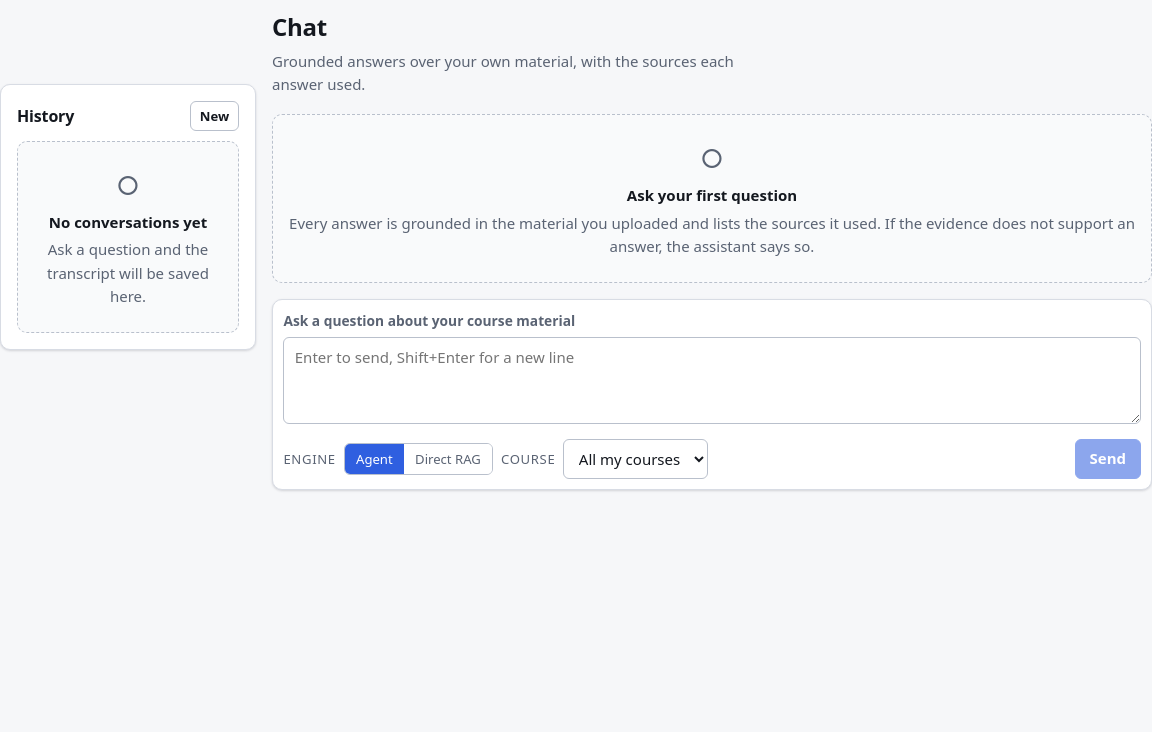
Test: chat streaming › offers a cancel control while streaming
Type "Long answer please" into the text box labelled "Ask a question about your course material".
click(712, 380); type("Long answer please")  # box [283,337,1141,424]
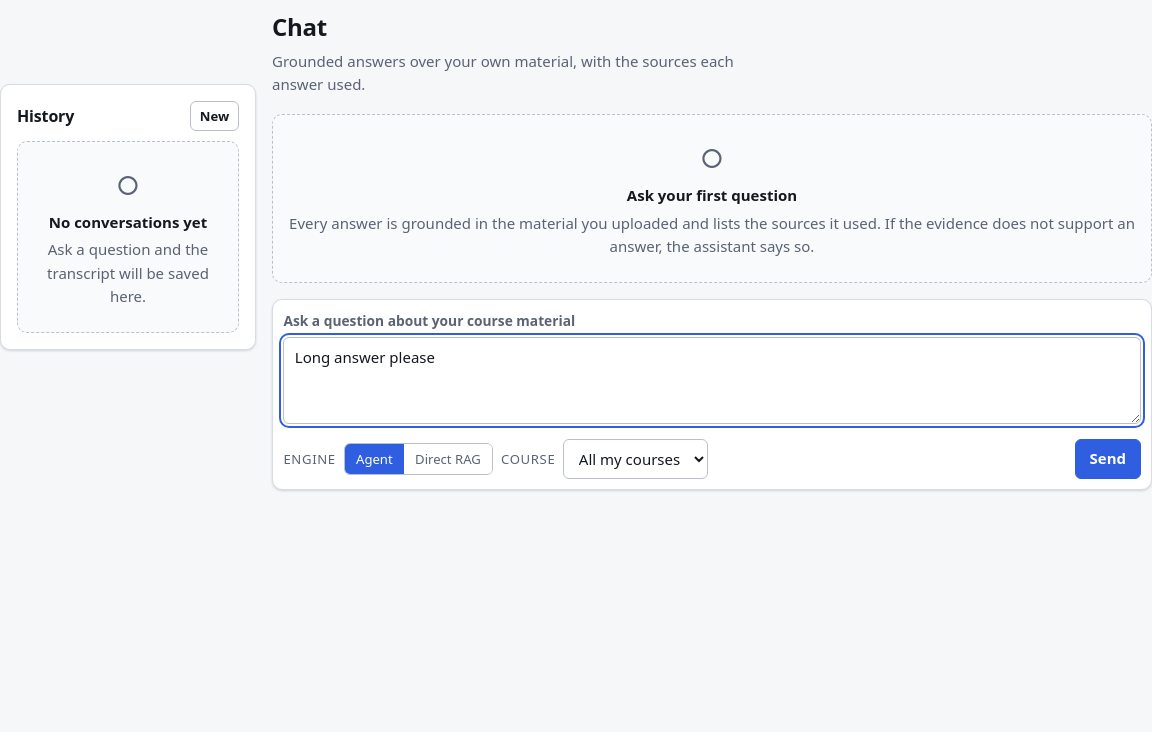
Click the button "Send".
click(1108, 459)  # box [1075,439,1141,478]
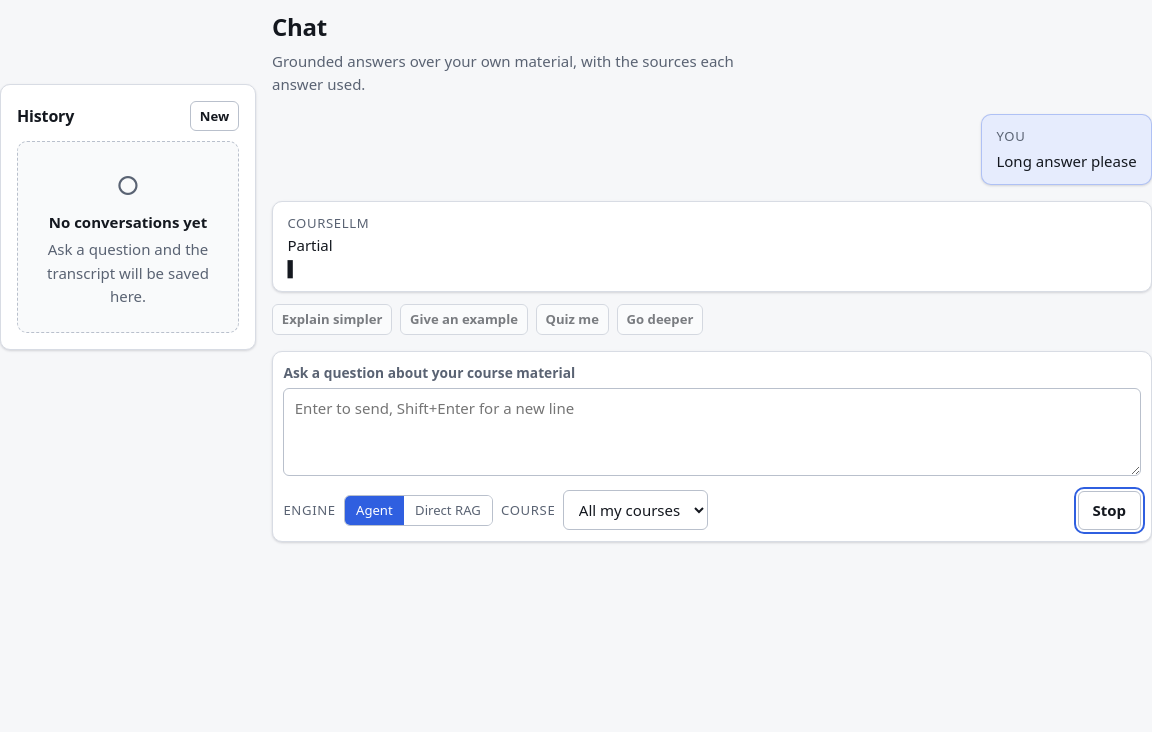
Click the button "Stop".
click(1109, 510)  # box [1078,491,1141,530]
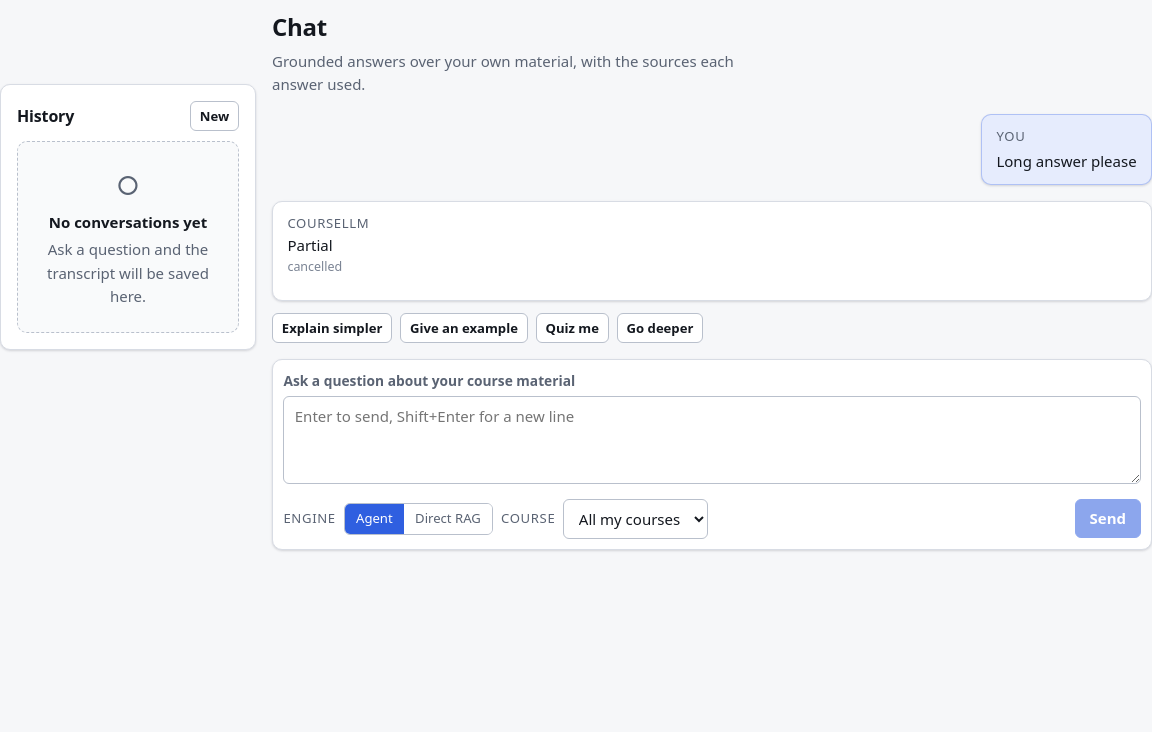
Expected: the text "Partial" is shown, [287,235,333,255]
Expected: the button "Send" is shown, [1075,499,1141,538]
Expected: the text "cancelled" is shown, [287,258,342,275]
